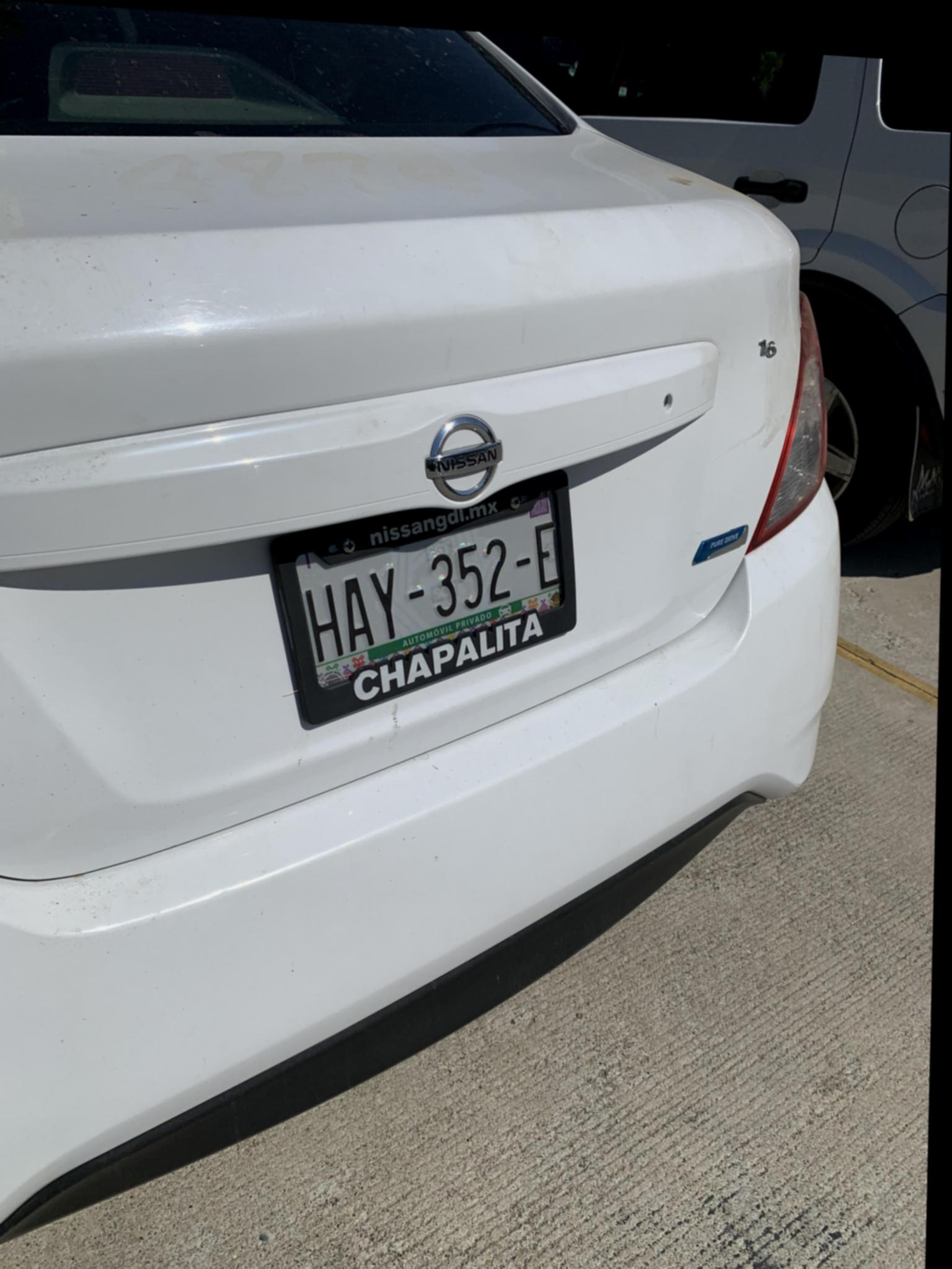License_Plate: (248, 468, 594, 739)
